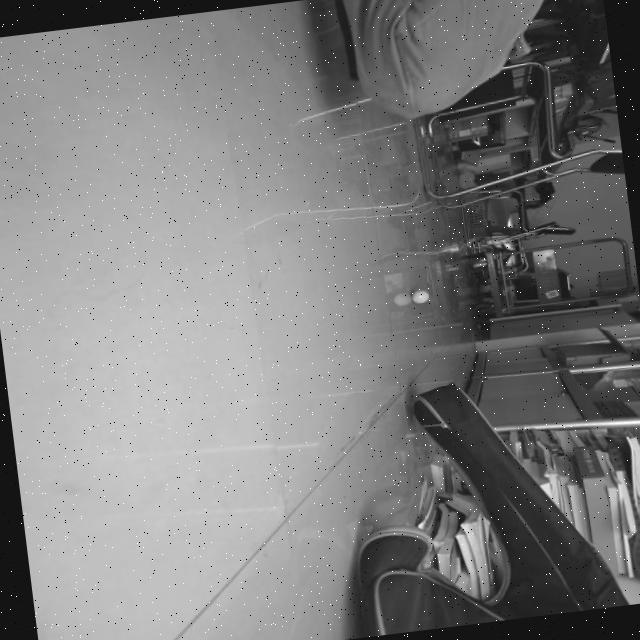ping-pong-ball: (408, 289, 429, 305)
